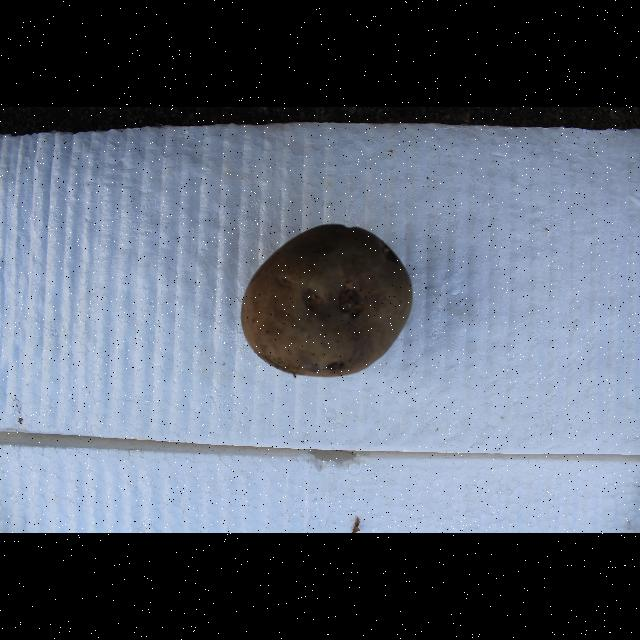Diseased-fungal potato: (220, 257, 406, 417)
